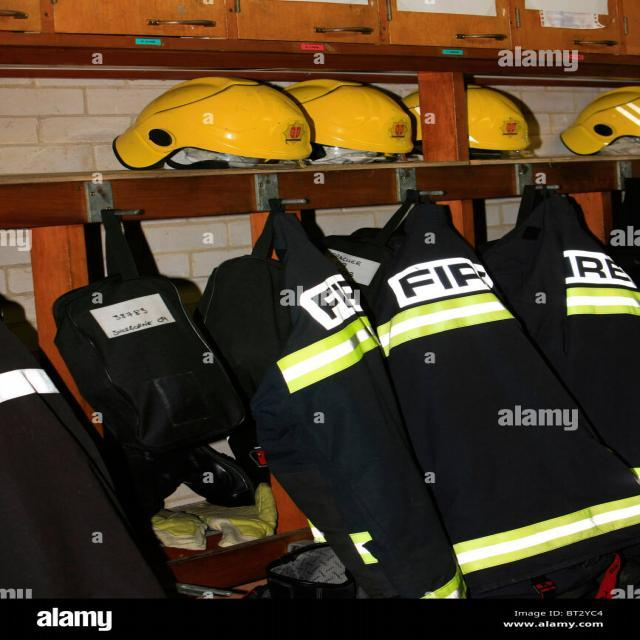reflective_jacket: (330, 231, 637, 589), (229, 199, 430, 638), (473, 189, 639, 467)
safety_helmet: (111, 74, 316, 168), (294, 78, 425, 174), (402, 75, 539, 150), (554, 78, 639, 154)
